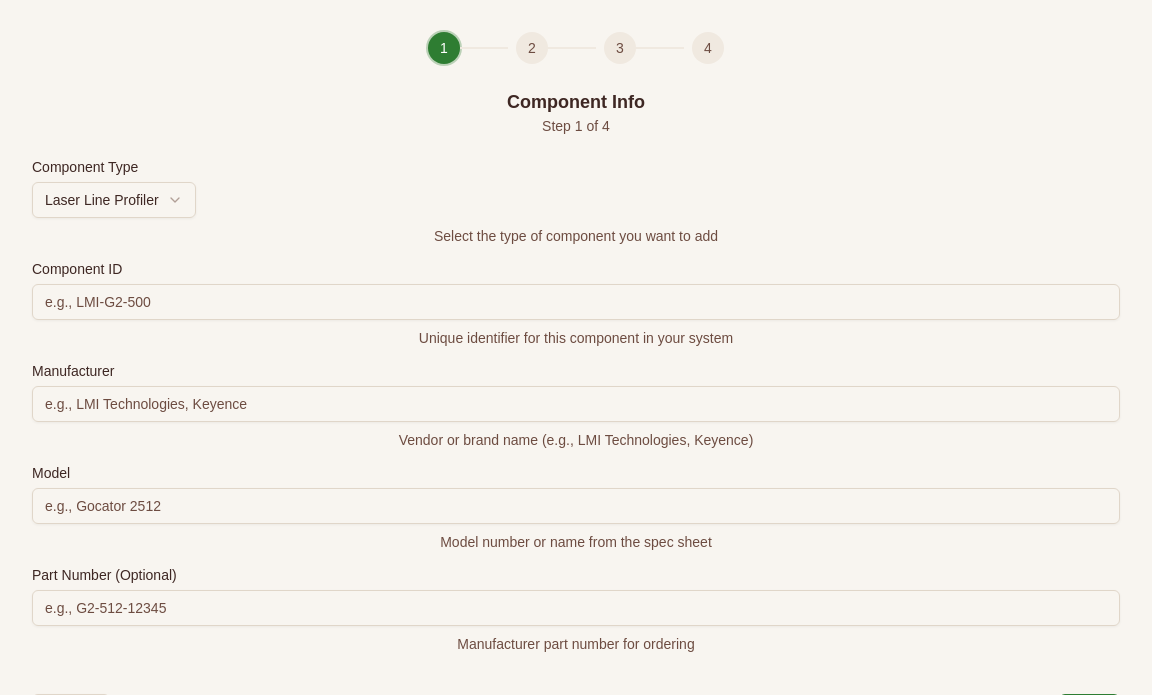
ComponentEntryWizard › step configuration by component type › LinescanCamera has 3 steps
Click the dropdown named "component type" at [114, 200], box [32, 182, 196, 218]
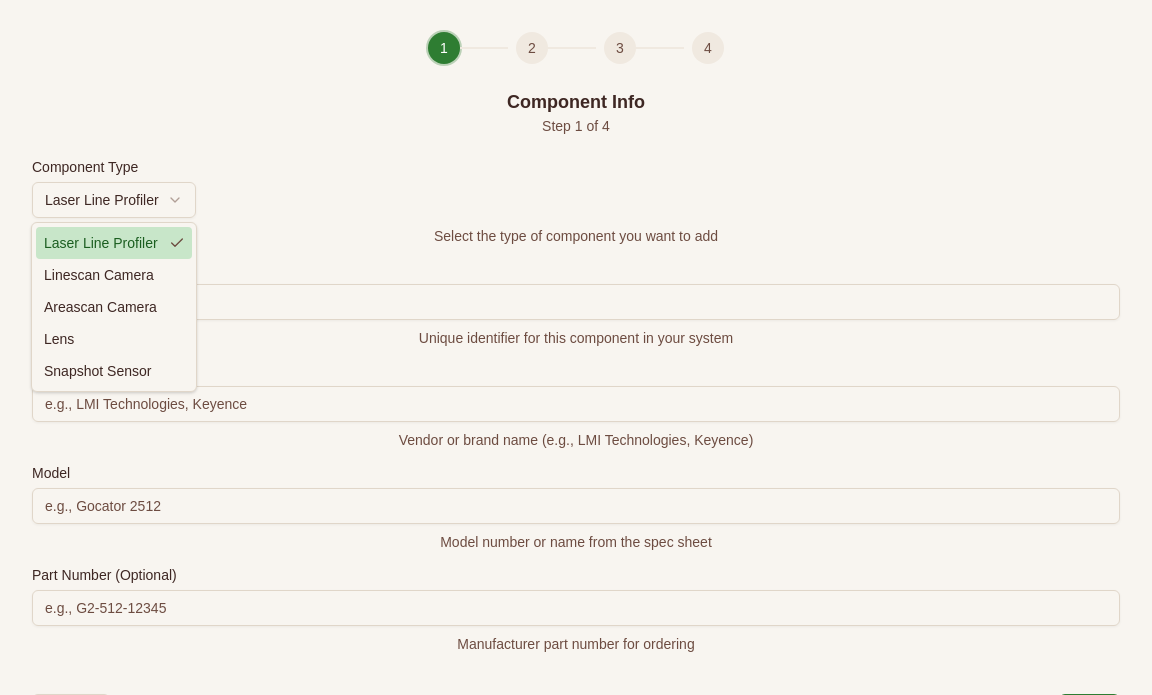
Click the option "Linescan Camera" at [99, 275], box [44, 267, 154, 283]
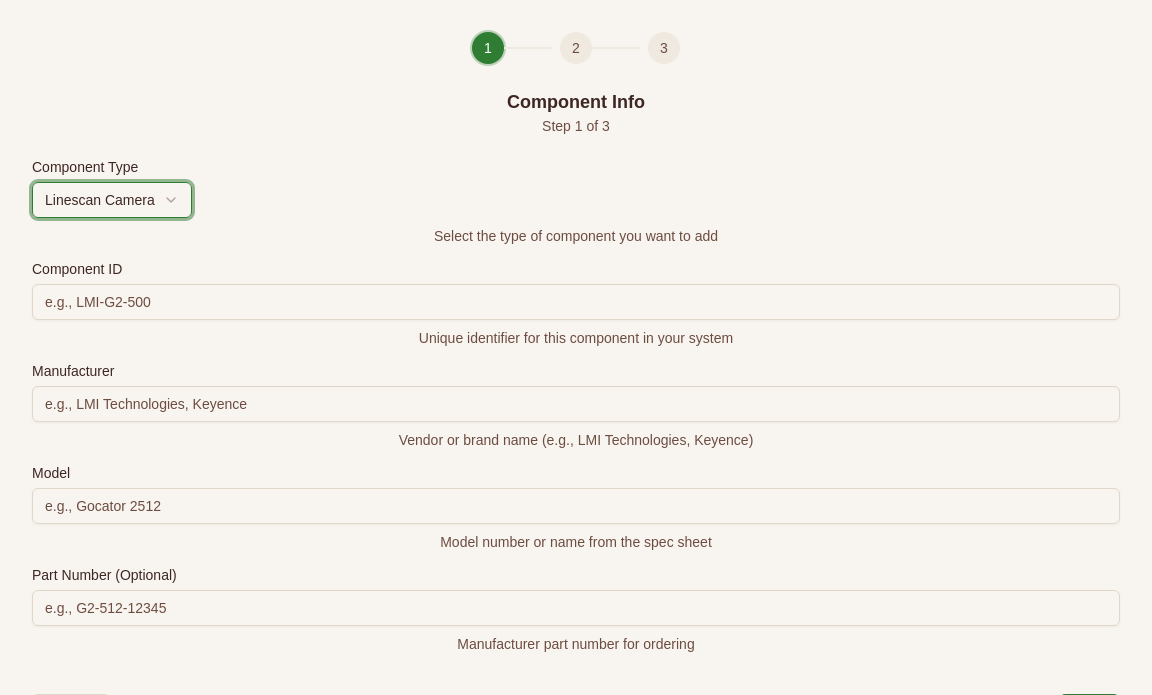
Result: the text "Step 1 of 3" is shown at [542, 118, 610, 134]
